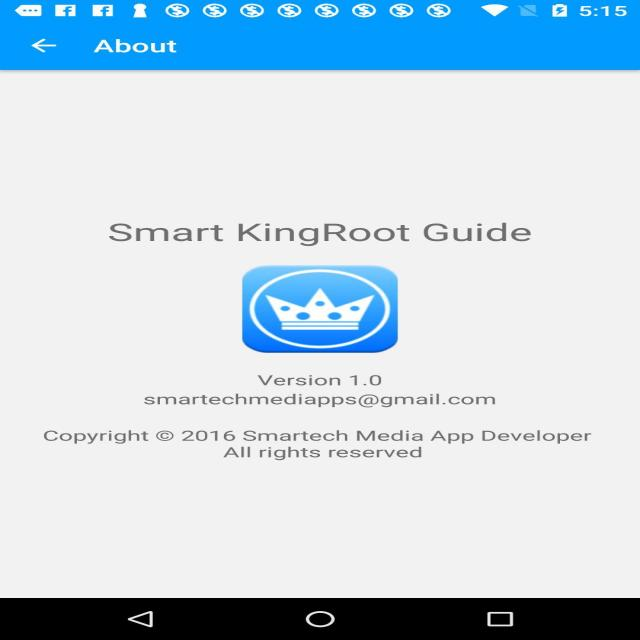button: (3, 32, 266, 79)
icon: (192, 263, 444, 368)
text: (18, 418, 623, 474), (80, 207, 559, 256), (144, 374, 524, 410)
